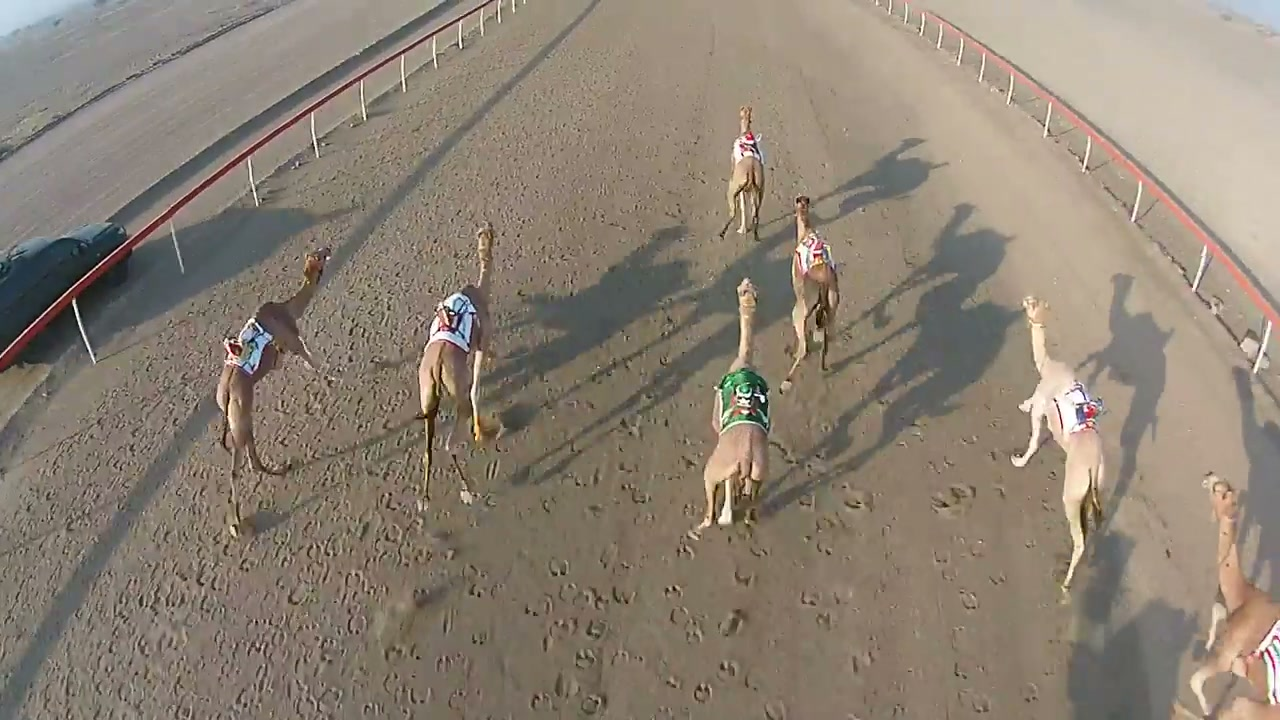animal_footprint: (86, 420, 819, 719), (800, 375, 1048, 717)
